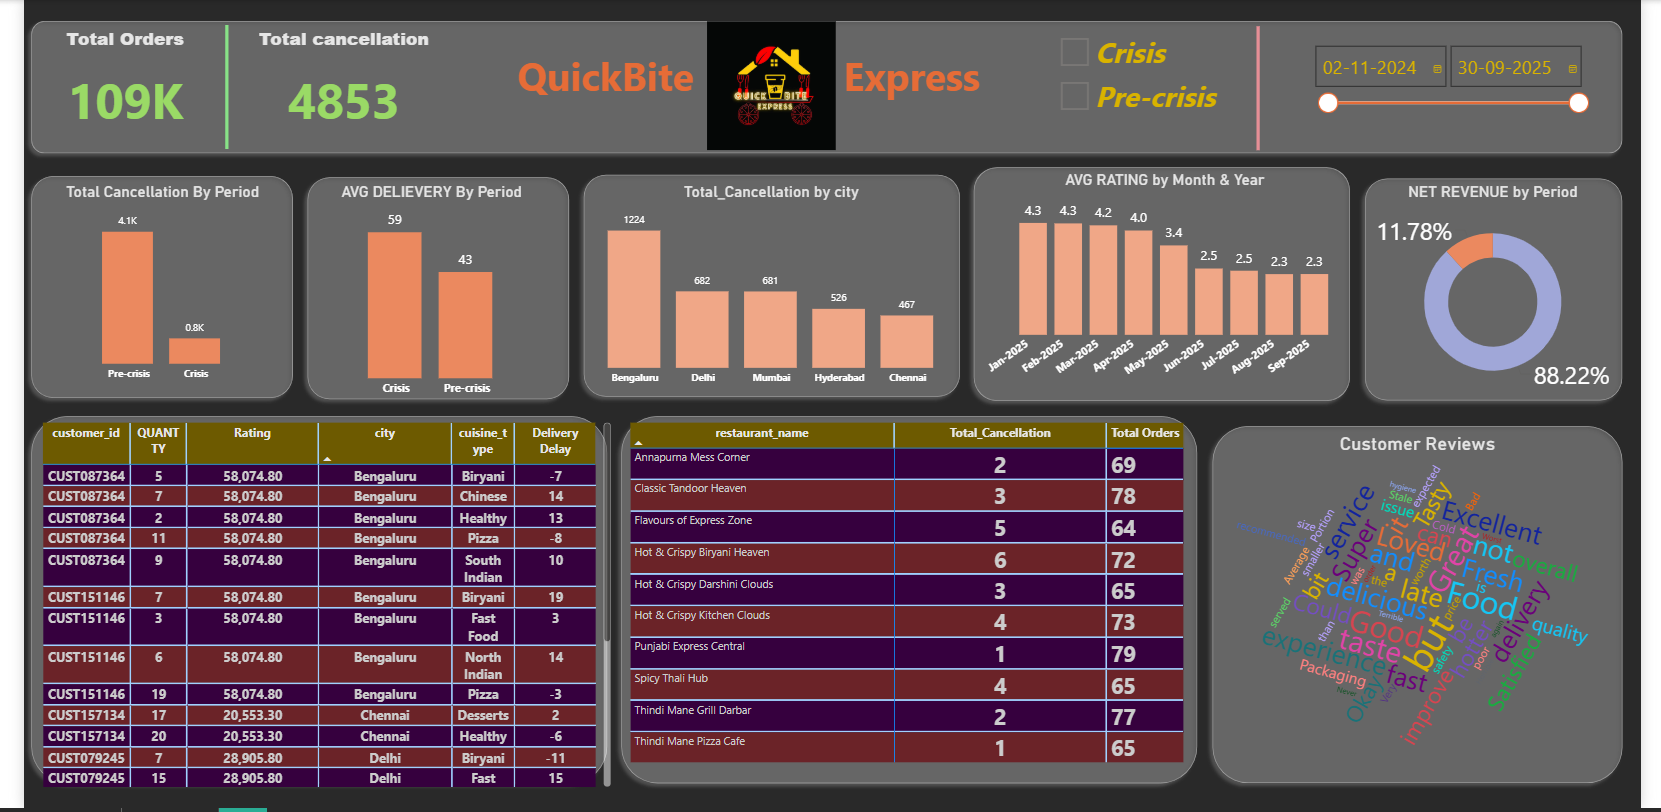

The page's visual inventory and layout, read from the dashboard file:
{"tool":"powerbi","page":{"name":"Page 2","canvas":[2000,1000],"ordinal":0},"visuals":[{"type":"shape","box":[0,208.9,341.6,292.5],"z":0},{"type":"shape","box":[341.6,210.8,341.6,292.5],"z":1000},{"type":"shape","box":[683.1,207.1,483.3,292.5],"z":2000},{"type":"shape","box":[1166.4,198,483.3,307.1],"z":3000},{"type":"shape","box":[1649.7,212.6,336.1,292.5],"z":4000},{"type":"shape","box":[0,505.1,730.4,472.4],"z":5000},{"type":"shape","box":[730.4,505.1,730.4,472.4],"z":6000},{"type":"shape","box":[1460.8,517.8,525.1,459.7],"z":7000},{"type":"shape","box":[0,16.4,1985.8,181.7],"z":8000},{"type":"card","title":"Total cancellation","fields":{"Values":["fact_orders.Total_Cancellation"]},"box":[250.7,32.7,290.7,149],"z":9000},{"type":"card","title":"Total Orders","fields":{"Values":["fact_orders.Total Orders"]},"box":[0,32.7,250.7,149],"z":10000},{"type":"textbox","box":[586.5,55.2,634.3,91.9],"z":11000},{"type":"columnChart","title":"Total Cancellation By Period","fields":{"Category":["date.Period"],"Y":["fact_orders.Total_Cancellation"]},"box":[16.4,225.3,308.9,254.4],"z":12000},{"type":"donutChart","fields":{"Y":["fact_orders.NET REVENUE"],"Category":["date.Period"]},"box":[1663.8,225.1,306.6,274.4],"z":13000},{"type":"columnChart","title":"AVG DELIEVERY By Period","fields":{"Category":["date.Period"],"Y":["fact_delivery_performance.AVG DELIEVERY"]},"box":[341.6,225.3,325.2,274.3],"z":14000},{"type":"columnChart","fields":{"Category":["dim_restaurant.city"],"Y":["fact_orders.Total_Cancellation"]},"box":[684,225.1,482.4,259.4],"z":15000},{"type":"columnChart","fields":{"Category":["date.Month & Year"],"Y":["fact_ratings.AVG RATING"]},"box":[1186.4,212.6,450.6,272.5],"z":16000},{"type":"tableEx","fields":{"Values":["fact_orders.customer_id","Sum(fact_order_items.quantity)","Sum(fact_ratings.rating)","dim_customer.city","dim_restaurant.cuisine_type","Sum(fact_delivery_performance.Delivery_Delay)"]},"box":[17,518.1,714,460.1],"z":17000},{"type":"pivotTable","fields":{"Rows":["dim_restaurant.restaurant_name"],"Values":["fact_orders.Total_Cancellation","fact_orders.Total Orders"]},"box":[744.7,518.1,703.8,441.4],"z":18000},{"type":"WordCloud1447959067750","title":"Customer Reviews","fields":{"Category":["fact_ratings.review_text"],"Excludes":["date.Period"],"Values":["Count(fact_ratings.customer_id)"]},"box":[1478.6,534.9,491.4,424],"z":19000},{"type":"slicer","fields":{"Values":["date.Period"]},"box":[1269.6,32.4,257.3,150],"z":20000},{"type":"slicer","fields":{"Values":["date.Date"]},"box":[1584.9,46,359.6,122.7],"z":21000},{"type":"shape","box":[221.5,30.7,59.6,153.4],"z":22000},{"type":"shape","box":[1496.3,32.4,59.6,153.4],"z":23000},{"type":"image","box":[779.6,22.1,290.5,169.1],"z":24000}]}

Visuals, with their boxes in screenshot pixels (x1, y1, x2, y2), scaled from the page's 2000x1000 canvas onto the 1661x812 screenshot:
shape: BBox(0, 170, 284, 407)
shape: BBox(284, 171, 567, 409)
shape: BBox(567, 168, 969, 406)
shape: BBox(969, 161, 1370, 410)
shape: BBox(1370, 173, 1649, 410)
shape: BBox(0, 410, 607, 794)
shape: BBox(607, 410, 1213, 794)
shape: BBox(1213, 420, 1649, 794)
shape: BBox(0, 13, 1649, 161)
"Total cancellation" card: BBox(208, 27, 450, 148)
"Total Orders" card: BBox(0, 27, 208, 148)
textbox: BBox(487, 45, 1014, 119)
"Total Cancellation By Period" columnChart: BBox(14, 183, 270, 390)
donutChart - fact_orders.NET REVENUE x date.Period: BBox(1382, 183, 1636, 406)
"AVG DELIEVERY By Period" columnChart: BBox(284, 183, 554, 406)
columnChart - dim_restaurant.city x fact_orders.Total_Cancellation: BBox(568, 183, 969, 393)
columnChart - date.Month & Year x fact_ratings.AVG RATING: BBox(985, 173, 1360, 394)
tableEx - fact_orders.customer_id x Sum(fact_order_items.quantity): BBox(14, 421, 607, 794)
pivotTable - dim_restaurant.restaurant_name x fact_orders.Total_Cancellation: BBox(618, 421, 1203, 779)
"Customer Reviews" WordCloud1447959067750: BBox(1228, 434, 1636, 779)
slicer - date.Period: BBox(1054, 26, 1268, 148)
slicer - date.Date: BBox(1316, 37, 1615, 137)
shape: BBox(184, 25, 233, 149)
shape: BBox(1243, 26, 1292, 151)
image: BBox(647, 18, 889, 155)
